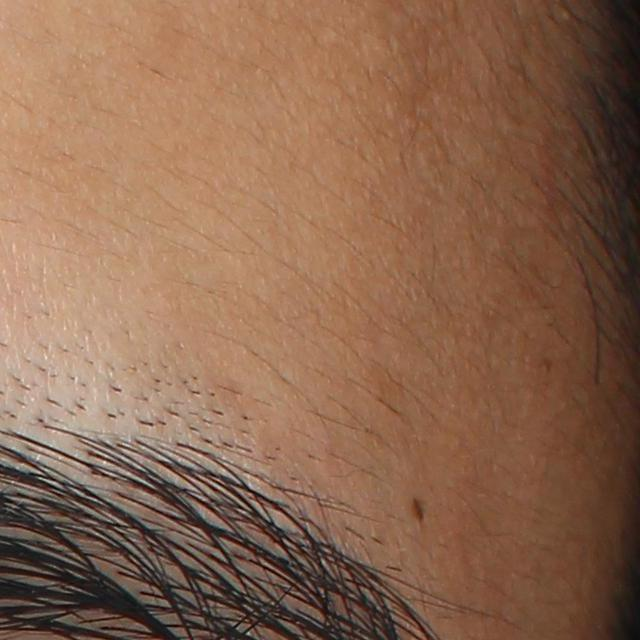nevus: (410, 495, 430, 532)
